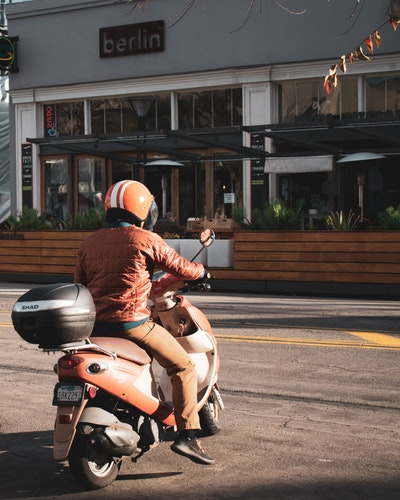helmet: (111, 178, 164, 227)
